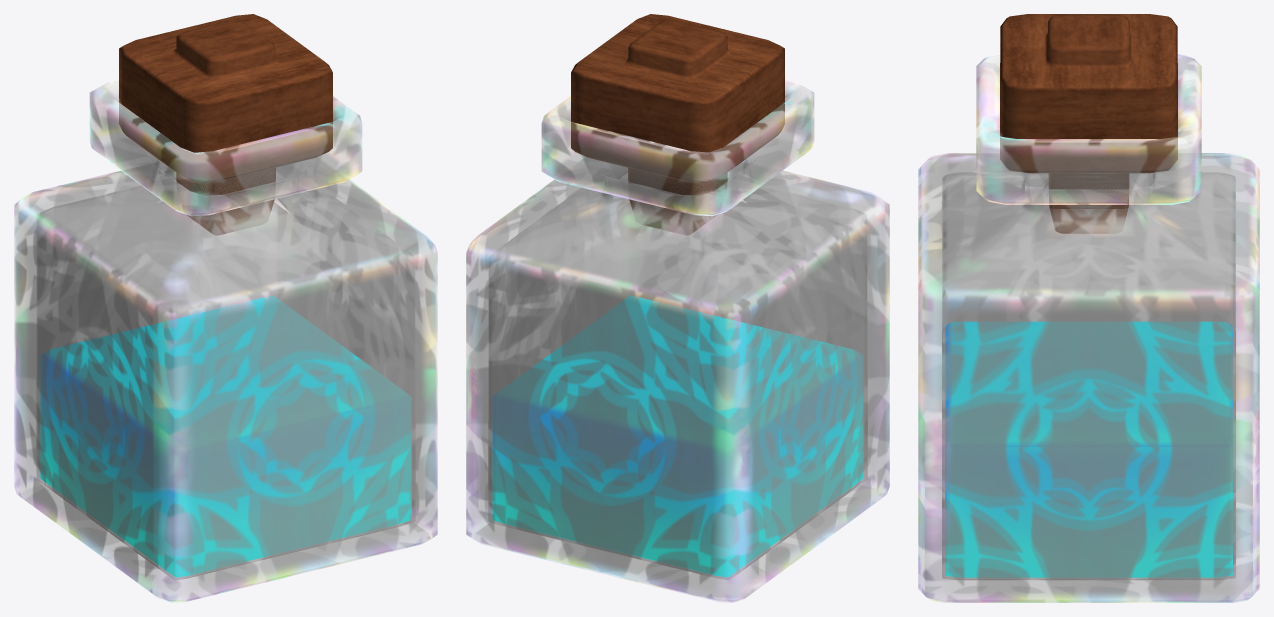
The model's file is magic_bottle_03.glb.
3 renders of one model, left to right at view 1: azimuth 30°, elevation 25°; view 2: azimuth 150°, elevation 25°; view 3: azimuth 270°, elevation 25°, orthographic. The views are drawn at different scales.
Parts seen in each view (by area): view 1: SM_Bottle_03 (×3); view 2: SM_Bottle_03 (×3); view 3: SM_Bottle_03 (×3).
Boxes of the visible parts, x1,y1,x2,y2 form: SM_Bottle_03 (×3): (14,14,437,602); SM_Bottle_03 (×3): (466,14,889,602); SM_Bottle_03 (×3): (918,14,1259,602).
Size of the model in its own units: 1.23 by 2 by 1.23.
Materials: 3 (3 with a texture image).
